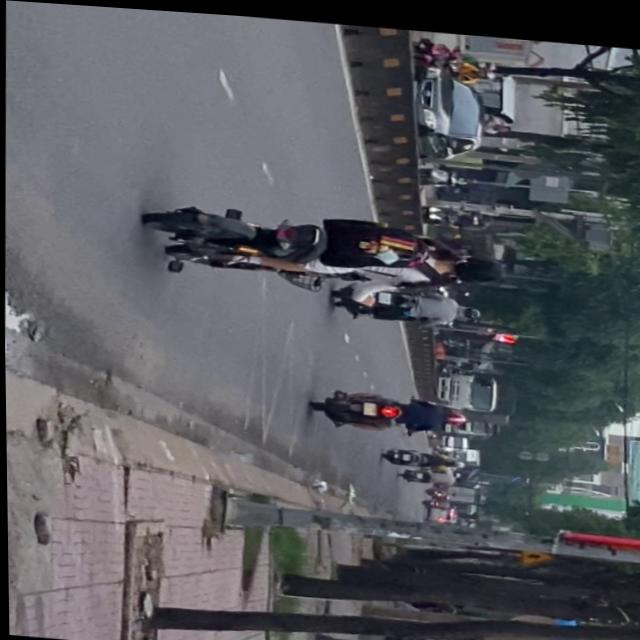licenseplate: (139, 192, 513, 304)
motorcyclist: (447, 245, 505, 277)
